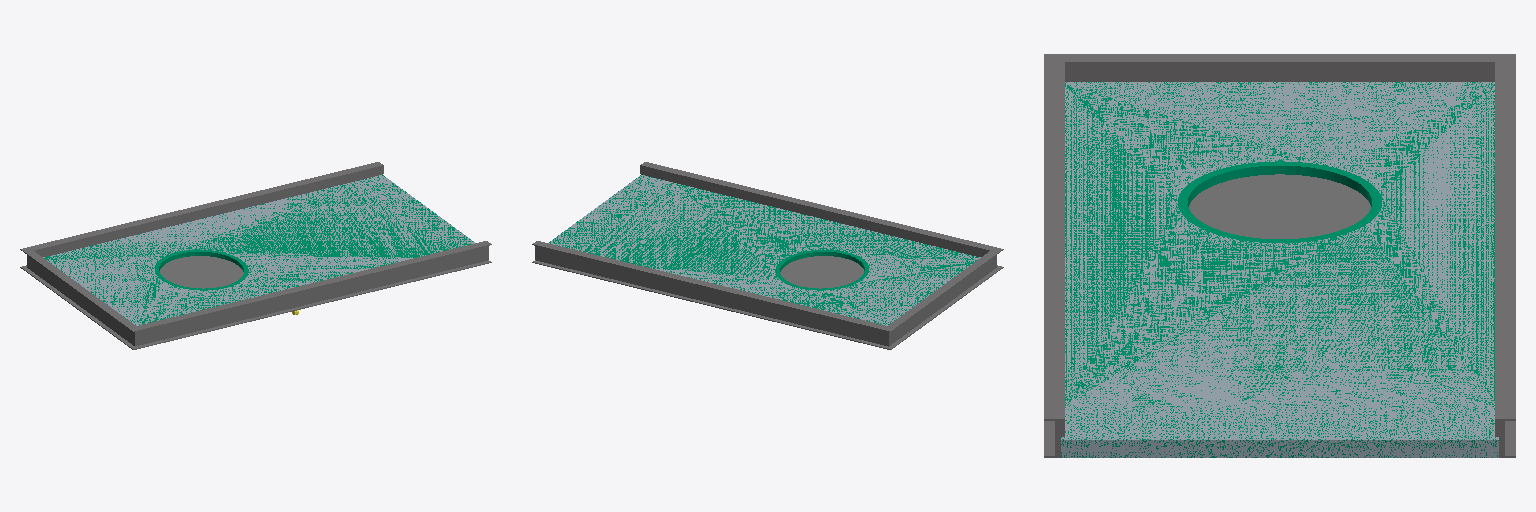
URDF robot description (right-pull-door):
<?xml version="1.0" ?>
<robot name="right-pull-door">
	<link name="base"/>
	<link name="link_0">
		<visual name="out-frame">
			<origin xyz="0 0 0"/>
			<geometry>
				<mesh filename="texture_dae/frame.dae" scale="0.7727926928934716 0.7727926928934716 0.7727926928934716"/>
			</geometry>
		</visual>
		<collision>
			<origin xyz="0 0 0"/>
			<geometry>
				<mesh filename="texture_dae/frame.dae" scale="0.7727926928934716 0.7727926928934716 0.7727926928934716"/>
			</geometry>
		</collision>
	</link>
	<joint name="joint_0" type="fixed">
		<origin rpy="1.570796326794897 0 -1.570796326794897" xyz="0 0 0"/>
		<child link="link_0"/>
		<parent link="base"/>
	</joint>
	<link name="link_1">
		<visual name="surf-board">
			<origin xyz="0.43107872977436495 -0.8212555453850839 0"/>
			<geometry>
				<mesh filename="texture_dae/board.dae" scale="0.7727926928934716 0.7727926928934716 0.7727926928934716"/>
			</geometry>
		</visual>
		<collision>
			<origin xyz="0.43107872977436495 -0.8212555453850839 0"/>
			<geometry>
				<mesh filename="texture_dae/board.dae" scale="0.7727926928934716 0.7727926928934716 0.7727926928934716"/>
			</geometry>
		</collision>
	</link>
	<joint name="joint_1" type="revolute">
		<origin xyz="-0.43107872977436495 0.8212555453850839 0"/>
		<axis xyz="0 -1 0"/>
		<child link="link_1"/>
		<parent link="link_0"/>
		<limit lower="0" upper="1.5079644737231006"/>
	</joint>
	<link name="link_2">
		<visual name="handle">
			<origin xyz="0 0 0"/>
			<geometry>
				<mesh filename="texture_dae/9960006.dae" scale="2.168468561311864 2.168468561311864 2.168468561311864"/>
			</geometry>
		</visual>
		<collision>
			<origin xyz="0 0 0"/>
			<geometry>
				<mesh filename="texture_dae/9960006.dae" scale="2.168468561311864 2.168468561311864 2.168468561311864"/>
			</geometry>
		</collision>
	</link>
	<joint name="joint_2" type="revolute">
		<origin xyz="0.7828395534710215 -0.8695793994499799 0.015916213578276408"/>
		<child link="link_2"/>
		<parent link="link_1"/>
		<axis xyz="0 0 1"/>
		<limit lower="0" upper="1.5079644737231006"/>
	</joint>
</robot>

--- Render facts (derived) ---
Views: 3 orthographic renders of the robot side by side, from view 1: azimuth 30°, elevation 25°; view 2: azimuth 150°, elevation 25°; view 3: azimuth 270°, elevation 25°.
Model right-pull-door with 4 links and 3 joints (2 revolute, 1 fixed), rooted at base, posed every joint at zero.
Visible links, largest first — view 1: link_1, link_0; view 2: link_1, link_0; view 3: link_1, link_0.
Link boxes in pixels (left/top/right/bottom): link_1: left=43, top=175, right=474, bottom=325; link_0: left=20, top=162, right=491, bottom=349; link_1: left=549, top=175, right=980, bottom=325; link_0: left=532, top=162, right=1003, bottom=349; link_1: left=1061, top=82, right=1498, bottom=457; link_0: left=1044, top=54, right=1515, bottom=457.
Size in the robot's own frame: 1.7 by 0.9274 by 0.1683 metres.
3 mesh visuals loaded from 3 distinct referenced files (3 Collada DAE).
